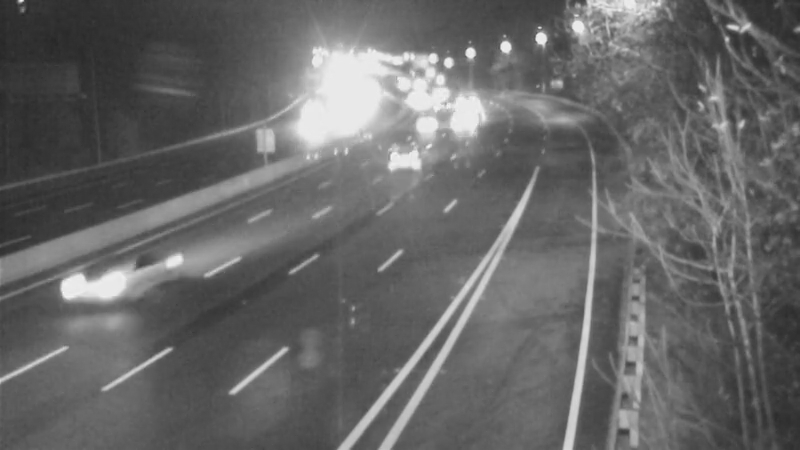vehicle: (357, 124, 437, 204), (56, 239, 136, 319), (394, 80, 444, 130), (439, 75, 489, 125), (434, 82, 484, 132), (431, 98, 481, 148), (394, 97, 444, 147), (276, 109, 326, 159)
